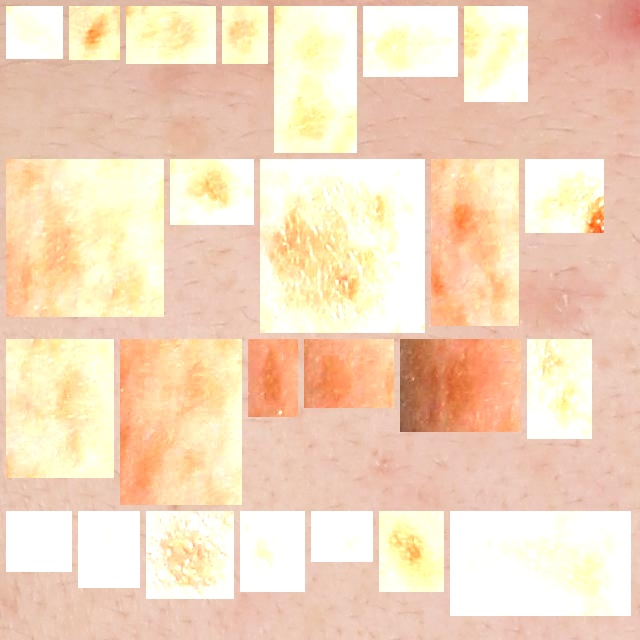melasma: (268, 167, 417, 325), (14, 167, 156, 309), (128, 347, 234, 497), (458, 519, 623, 608), (14, 347, 106, 470), (439, 167, 511, 318), (282, 14, 349, 145), (408, 347, 513, 424), (154, 519, 226, 591), (371, 14, 450, 69), (535, 347, 584, 431), (312, 347, 386, 400), (472, 14, 520, 94), (533, 167, 596, 225), (178, 167, 246, 217), (248, 519, 297, 584), (387, 519, 436, 584), (134, 14, 208, 56), (86, 519, 132, 580), (14, 519, 64, 564), (256, 347, 290, 409), (319, 519, 365, 554), (14, 14, 55, 51), (77, 14, 112, 52), (230, 14, 260, 56)
